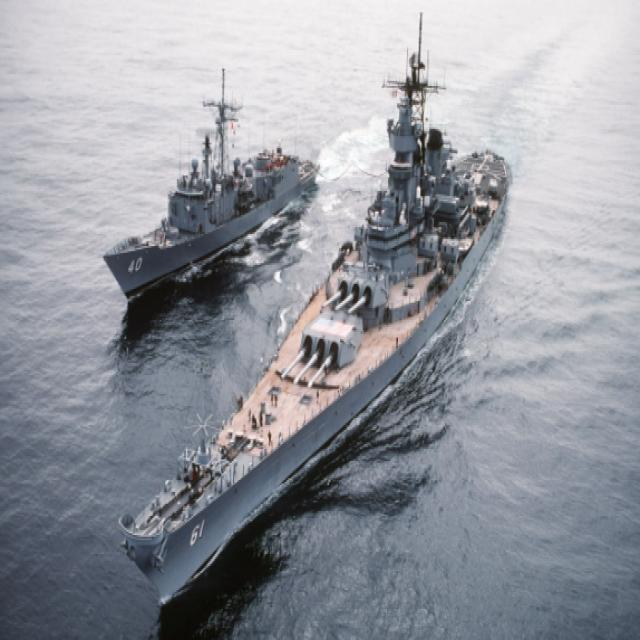navalvessels: (121, 22, 524, 588), (106, 46, 332, 303)
